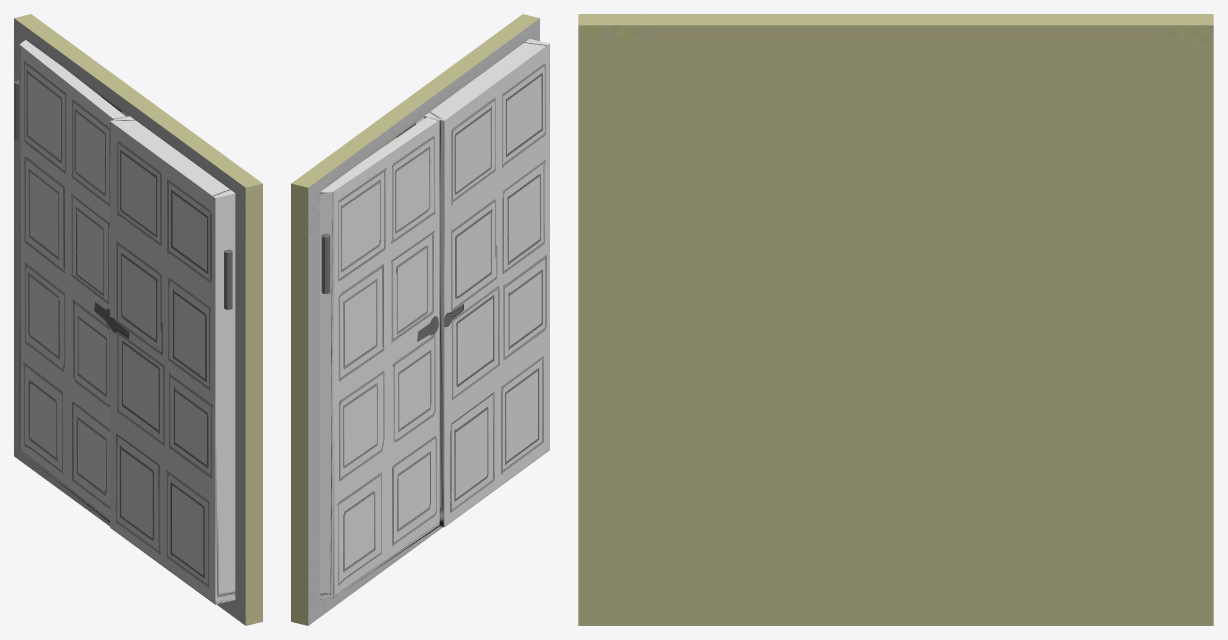
Rendered from Door_Tutorial.fbx.
The picture shows the model from 3 angles, left to right: view 1: azimuth 30°, elevation 25°; view 2: azimuth 150°, elevation 25°; view 3: azimuth 270°, elevation 25°; orthographic projection. The views are drawn at different scales.
Visible parts, largest first — view 1: Right_Door, Left_door, Background; view 2: Left_door, Right_Door, Background; view 3: Background.
Part boxes in pixels (x1,y1,x2,y2): Right_Door: [110, 116, 235, 604]; Left_door: [14, 40, 125, 522]; Background: [14, 14, 262, 625]; Left_door: [320, 117, 439, 598]; Right_Door: [424, 39, 549, 527]; Background: [291, 14, 539, 625]; Background: [578, 14, 1213, 625].
Bounding box in the file's own units: 2.41 × 27.09 × 25.97.
Materials: 3 (3 with a texture image).
